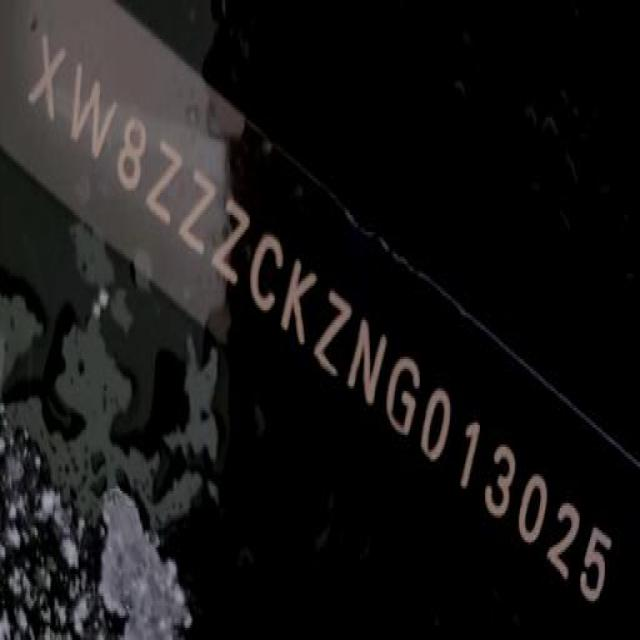0: (416, 375, 458, 468), (515, 466, 553, 551)
1: (451, 408, 487, 502)
2: (547, 502, 581, 582)
3: (485, 442, 515, 524)
5: (578, 521, 611, 608)
8: (110, 110, 154, 201)
C: (244, 228, 292, 320)
G: (382, 352, 428, 444)
K: (277, 254, 323, 356)
N: (342, 312, 393, 415)
W: (68, 66, 118, 158)
X: (15, 17, 78, 118)
Z: (140, 129, 189, 227), (175, 168, 224, 264), (310, 288, 354, 385), (213, 195, 250, 288)
